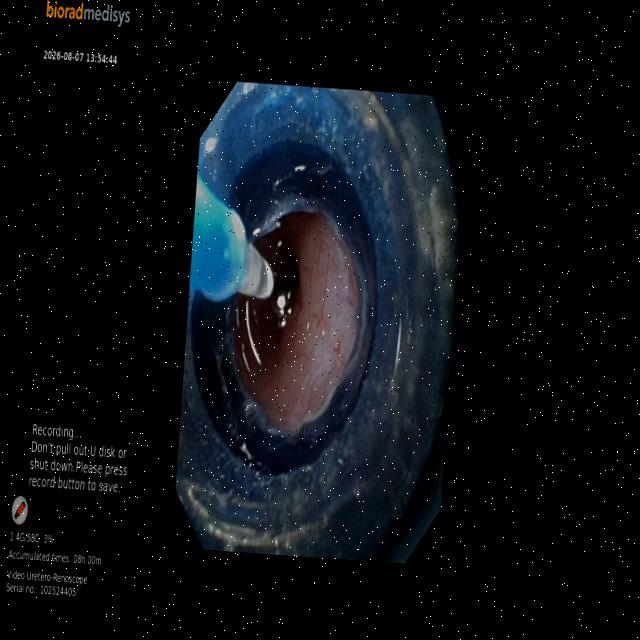laser-fibre: (237, 244, 273, 298)
